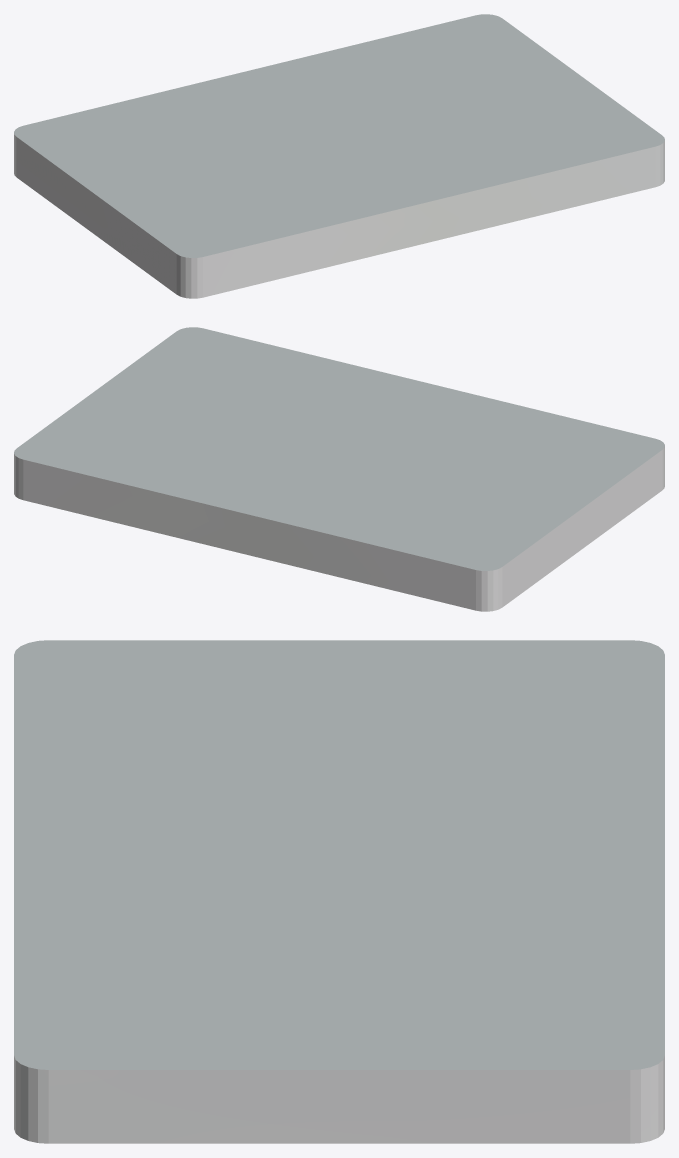
Rendered from wrs_fcsc_giftcard.dae.
3 views of the same model, one above another, from view 1: azimuth 30°, elevation 25°; view 2: azimuth 150°, elevation 25°; view 3: azimuth 270°, elevation 25° (orthographic). The views are drawn at different scales.
Parts seen in each view (by area): view 1: Cube_001; view 2: Cube_001; view 3: Cube_001.
Part boxes in pixels (box(x1,y1,x2,y2)): Cube_001: box(14, 14, 664, 298); Cube_001: box(14, 327, 664, 611); Cube_001: box(14, 640, 664, 1143).
Size of the model in its own units: 0.25 by 0.16 by 0.02.
Materials: 1 (1 with a texture image).
